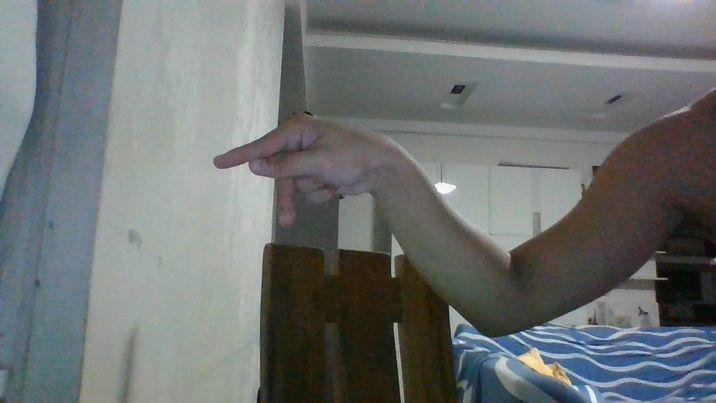p: (213, 111, 391, 227)
